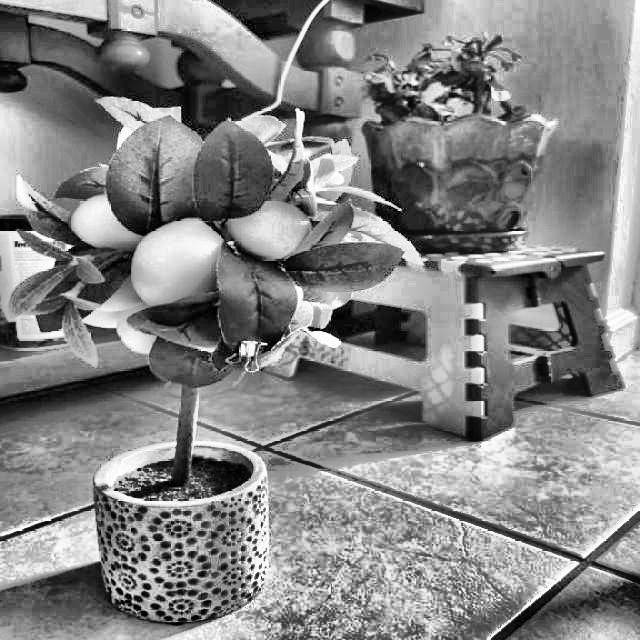plants: (0, 103, 423, 465), (318, 8, 556, 126)
